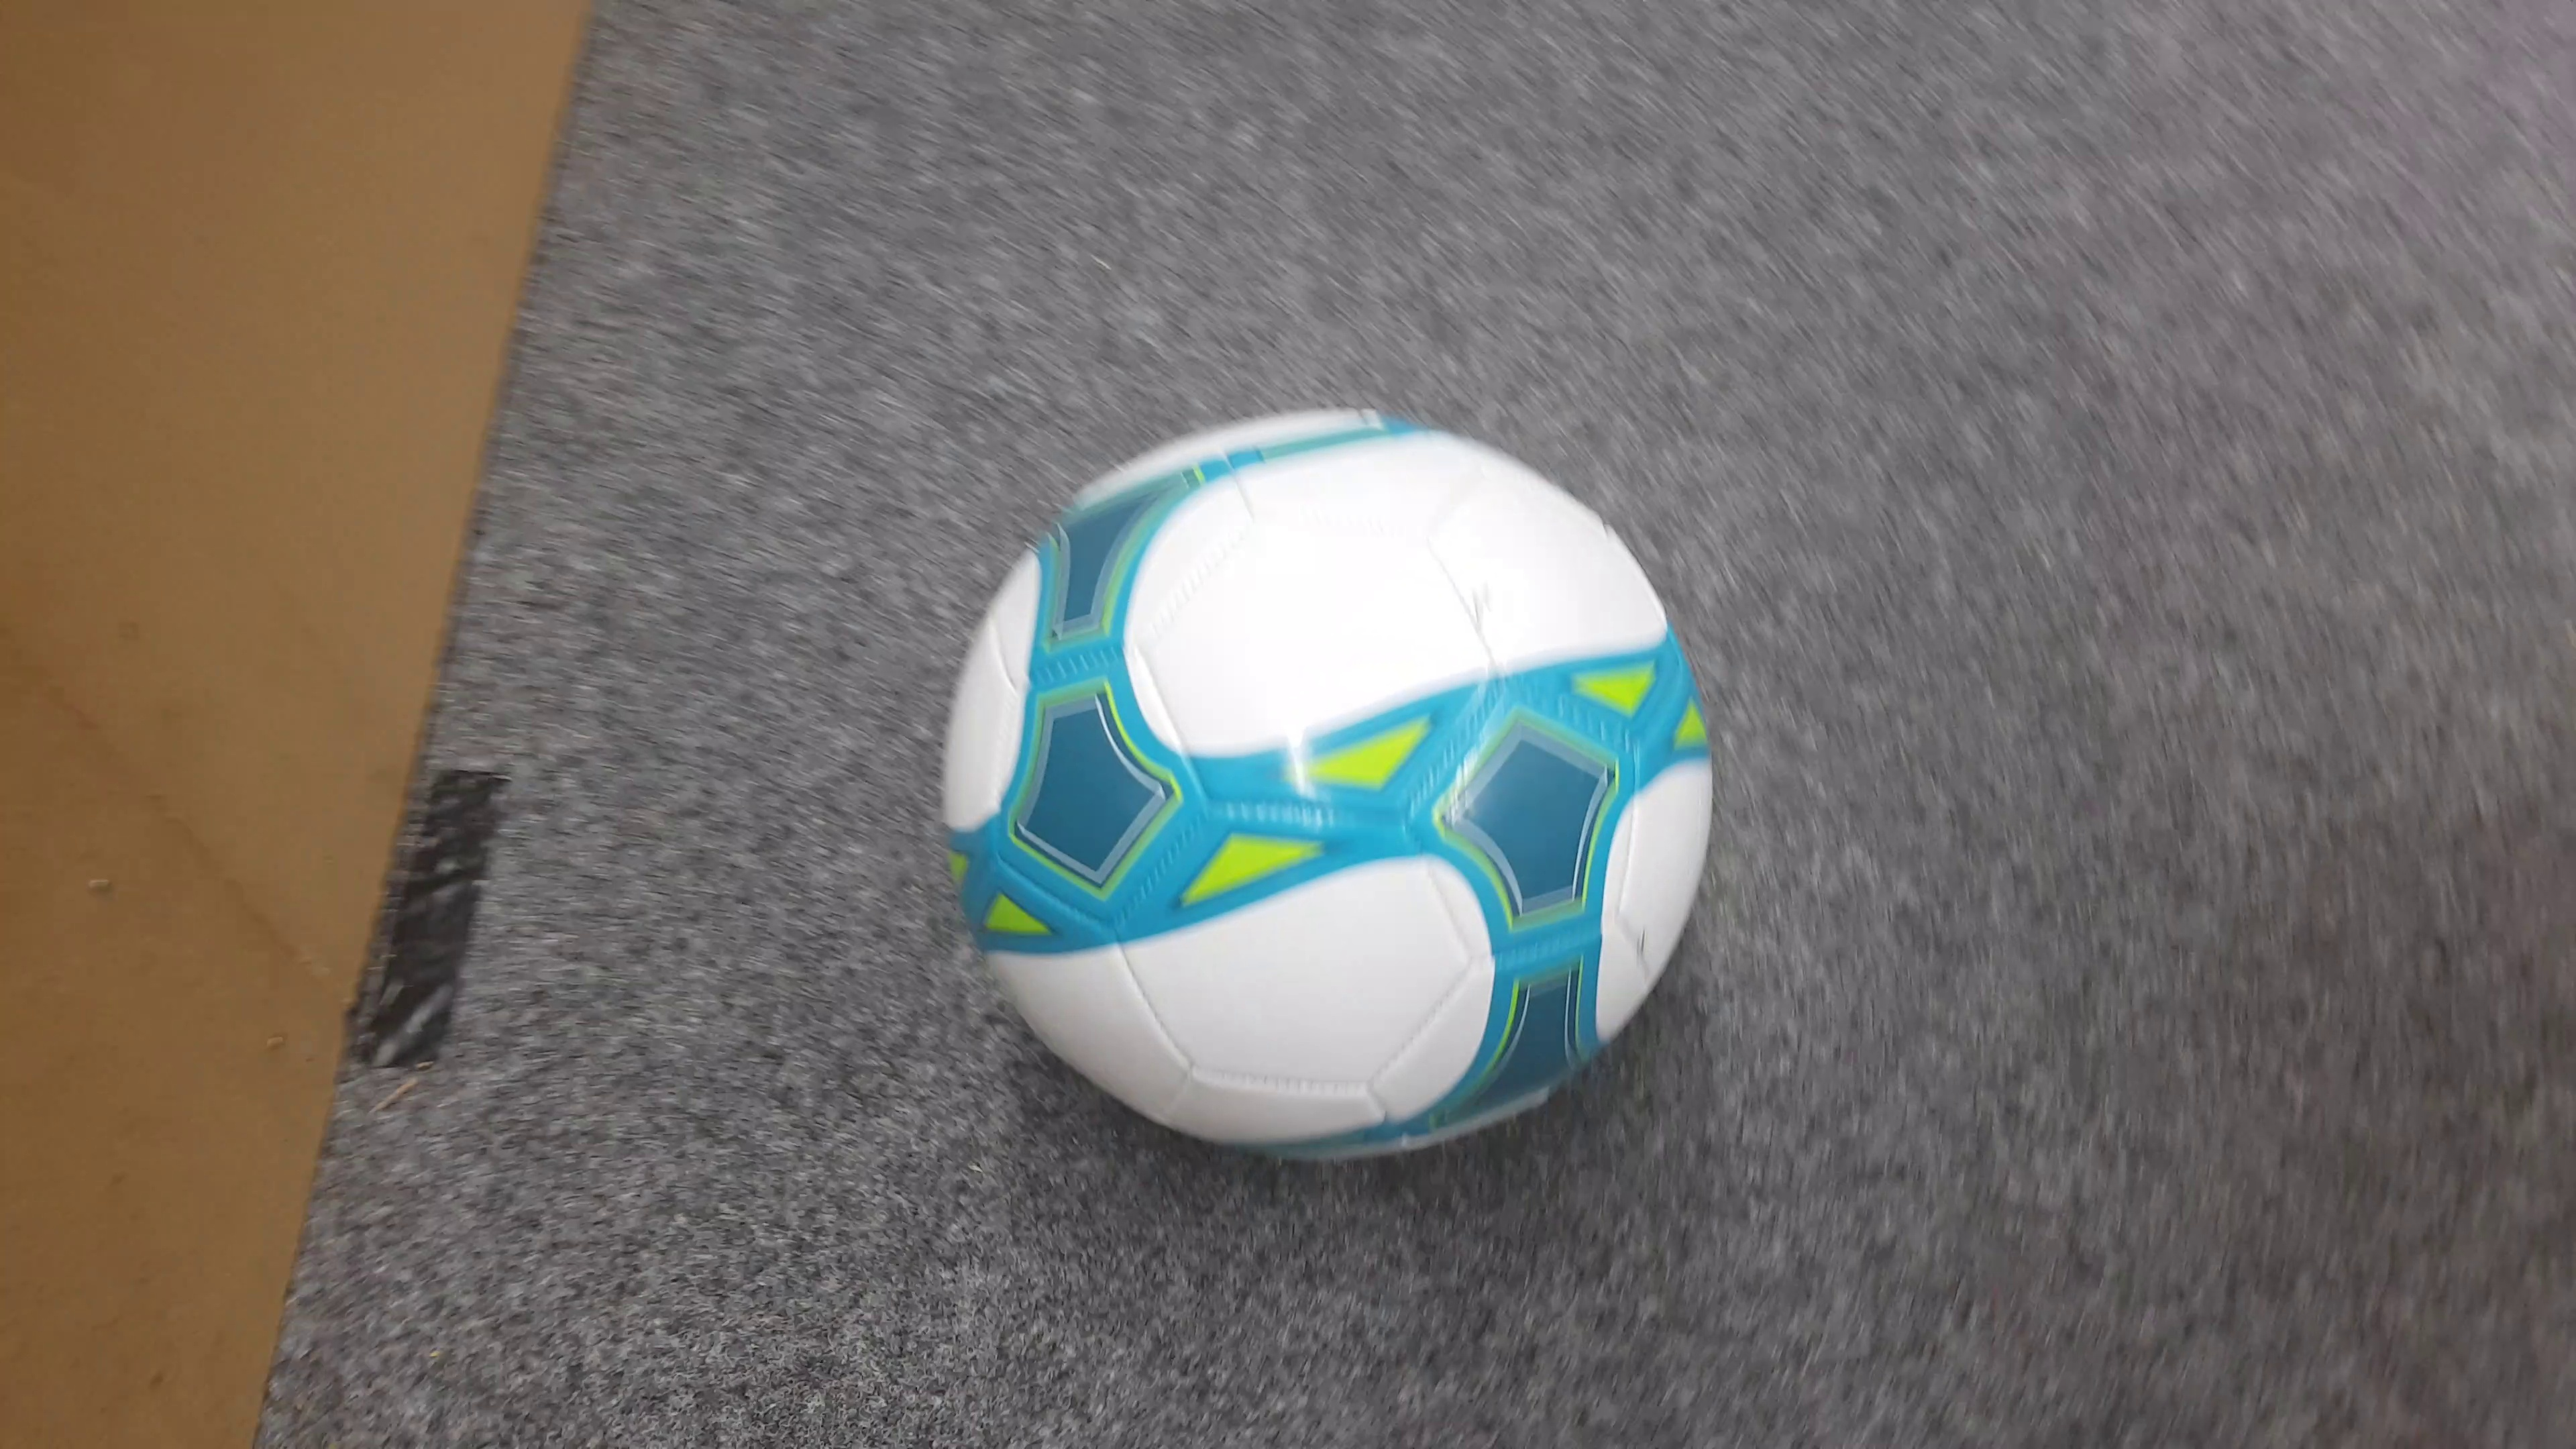kick: (932, 396, 1729, 1171)
